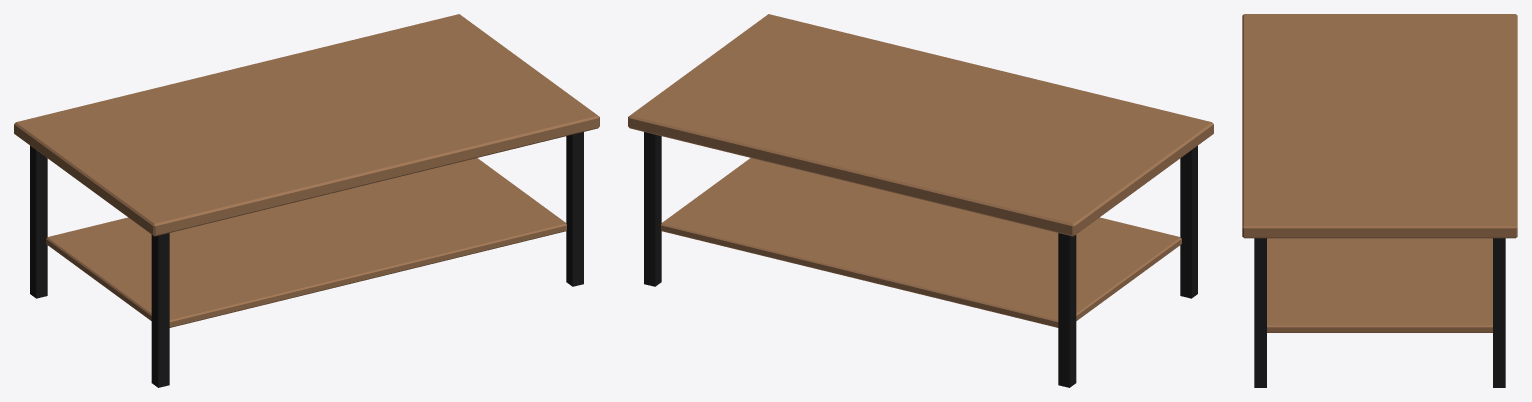
Rendered from 08_stolik_kawowy.glb.
3 renders of one model, left to right at view 1: azimuth 30°, elevation 25°; view 2: azimuth 150°, elevation 25°; view 3: azimuth 270°, elevation 25°, orthographic. The views are drawn at different scales.
Parts seen in each view (by area): view 1: Stolik_blat, Stolik_polka, Stolik_nogi; view 2: Stolik_blat, Stolik_polka, Stolik_nogi; view 3: Stolik_blat, Stolik_polka, Stolik_nogi.
Part boxes in pixels (box(x1,y1,x2,y2)): Stolik_blat: box(14, 14, 599, 236); Stolik_polka: box(46, 158, 566, 327); Stolik_nogi: box(30, 132, 583, 387); Stolik_blat: box(628, 14, 1213, 236); Stolik_polka: box(661, 158, 1181, 327); Stolik_nogi: box(644, 132, 1197, 387); Stolik_blat: box(1242, 14, 1517, 238); Stolik_polka: box(1267, 238, 1492, 332); Stolik_nogi: box(1254, 238, 1505, 387).
Size of the model in its own units: 1.1 by 0.4 by 0.6.
